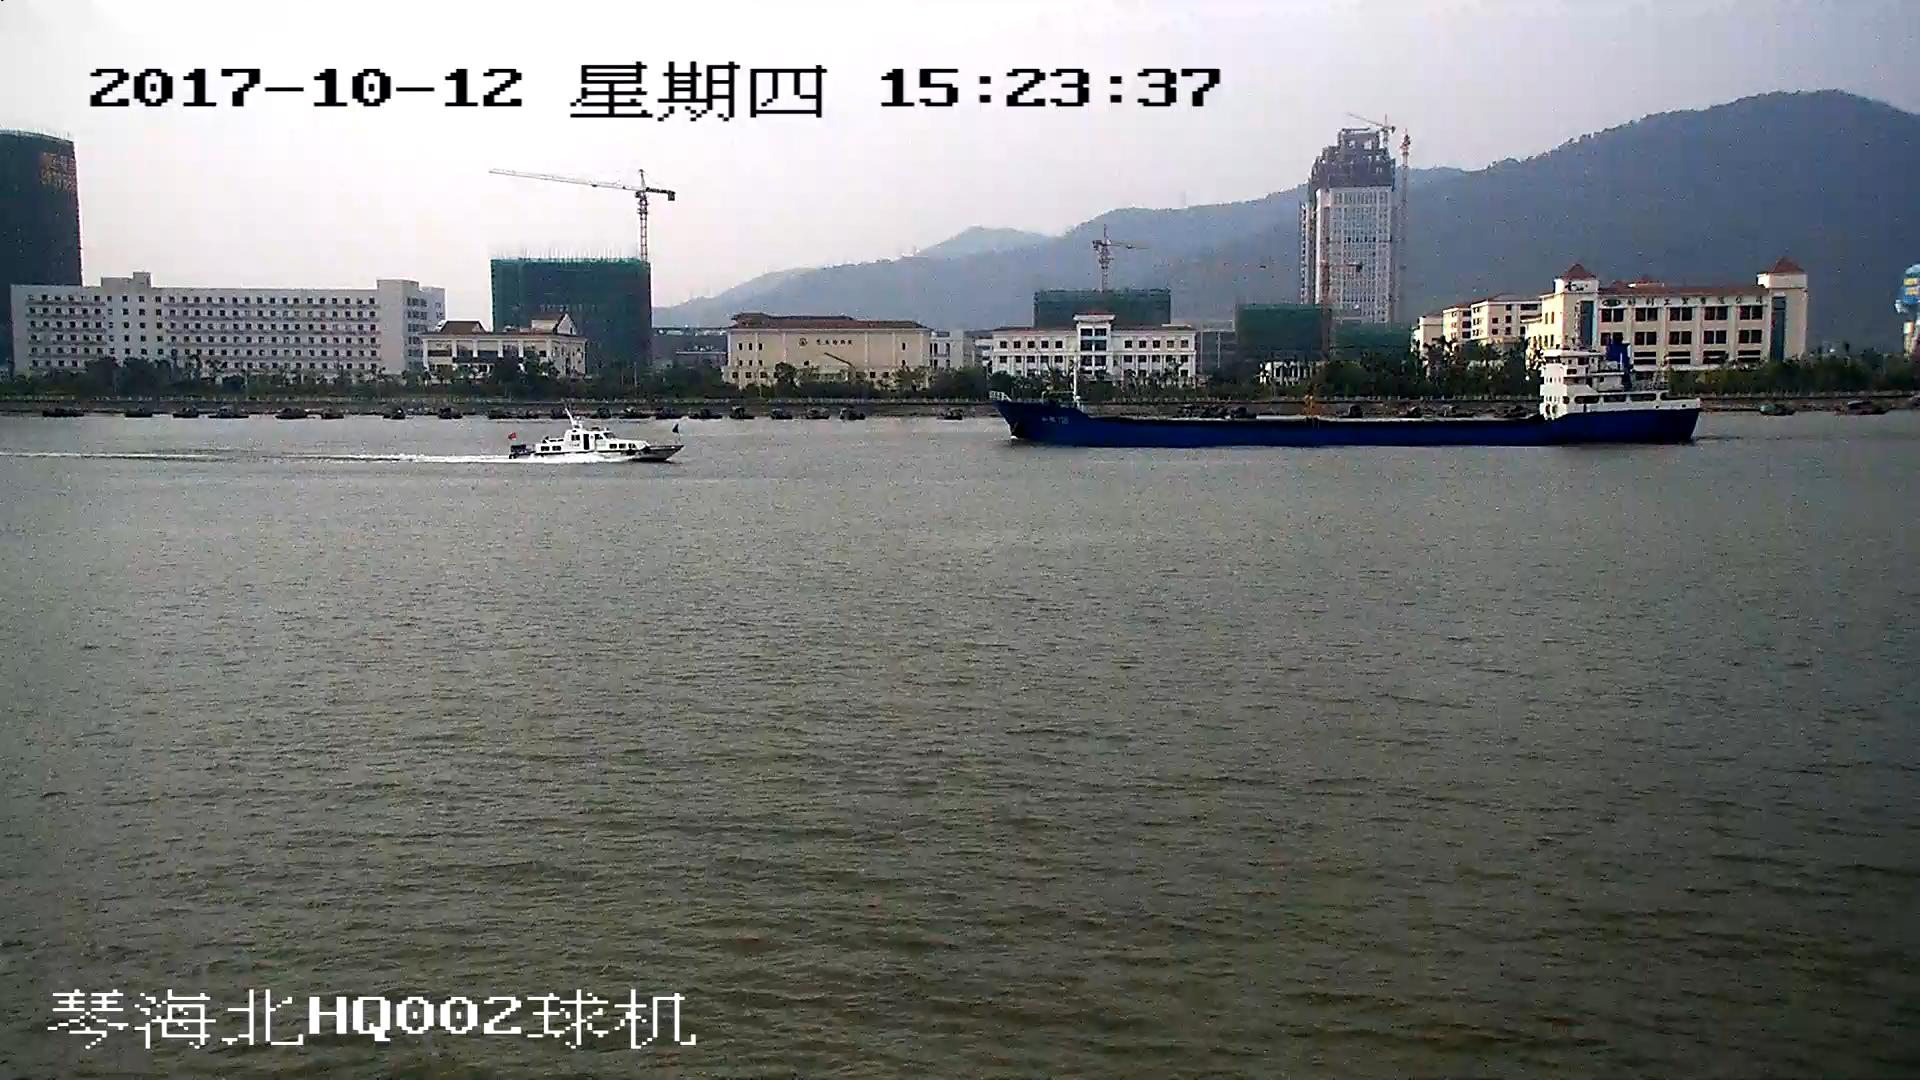bulk cargo carrier: (994, 321, 1698, 446)
passenger ship: (517, 409, 674, 466)
